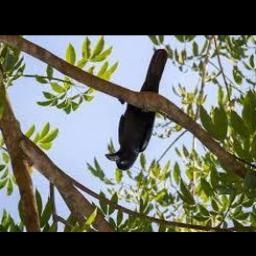Crow: (107, 48, 167, 171)
